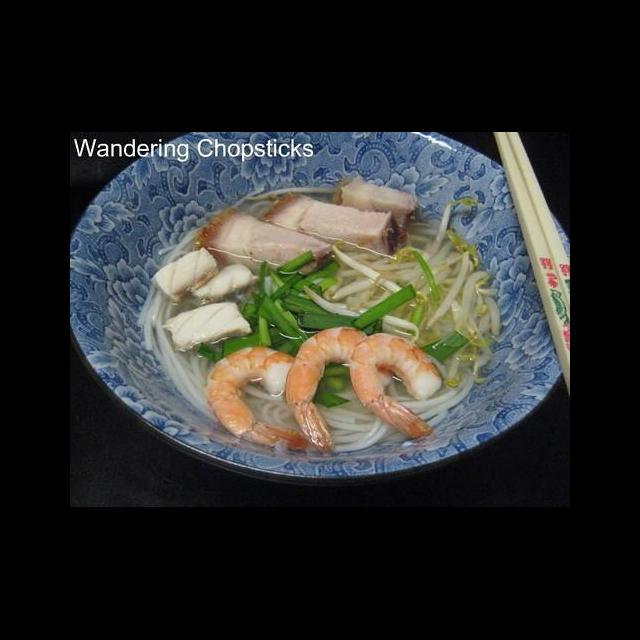bun: (131, 280, 225, 426), (396, 348, 482, 436), (311, 390, 397, 460)
ca: (157, 294, 259, 354), (148, 244, 221, 308), (184, 253, 264, 304)
thit heo quay: (187, 202, 340, 278), (255, 186, 404, 262), (329, 170, 425, 230)
tom: (282, 321, 396, 458), (202, 340, 316, 454), (345, 324, 444, 442)
